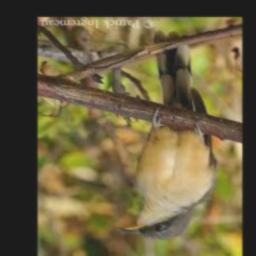Cuckoo: (119, 31, 219, 239)
